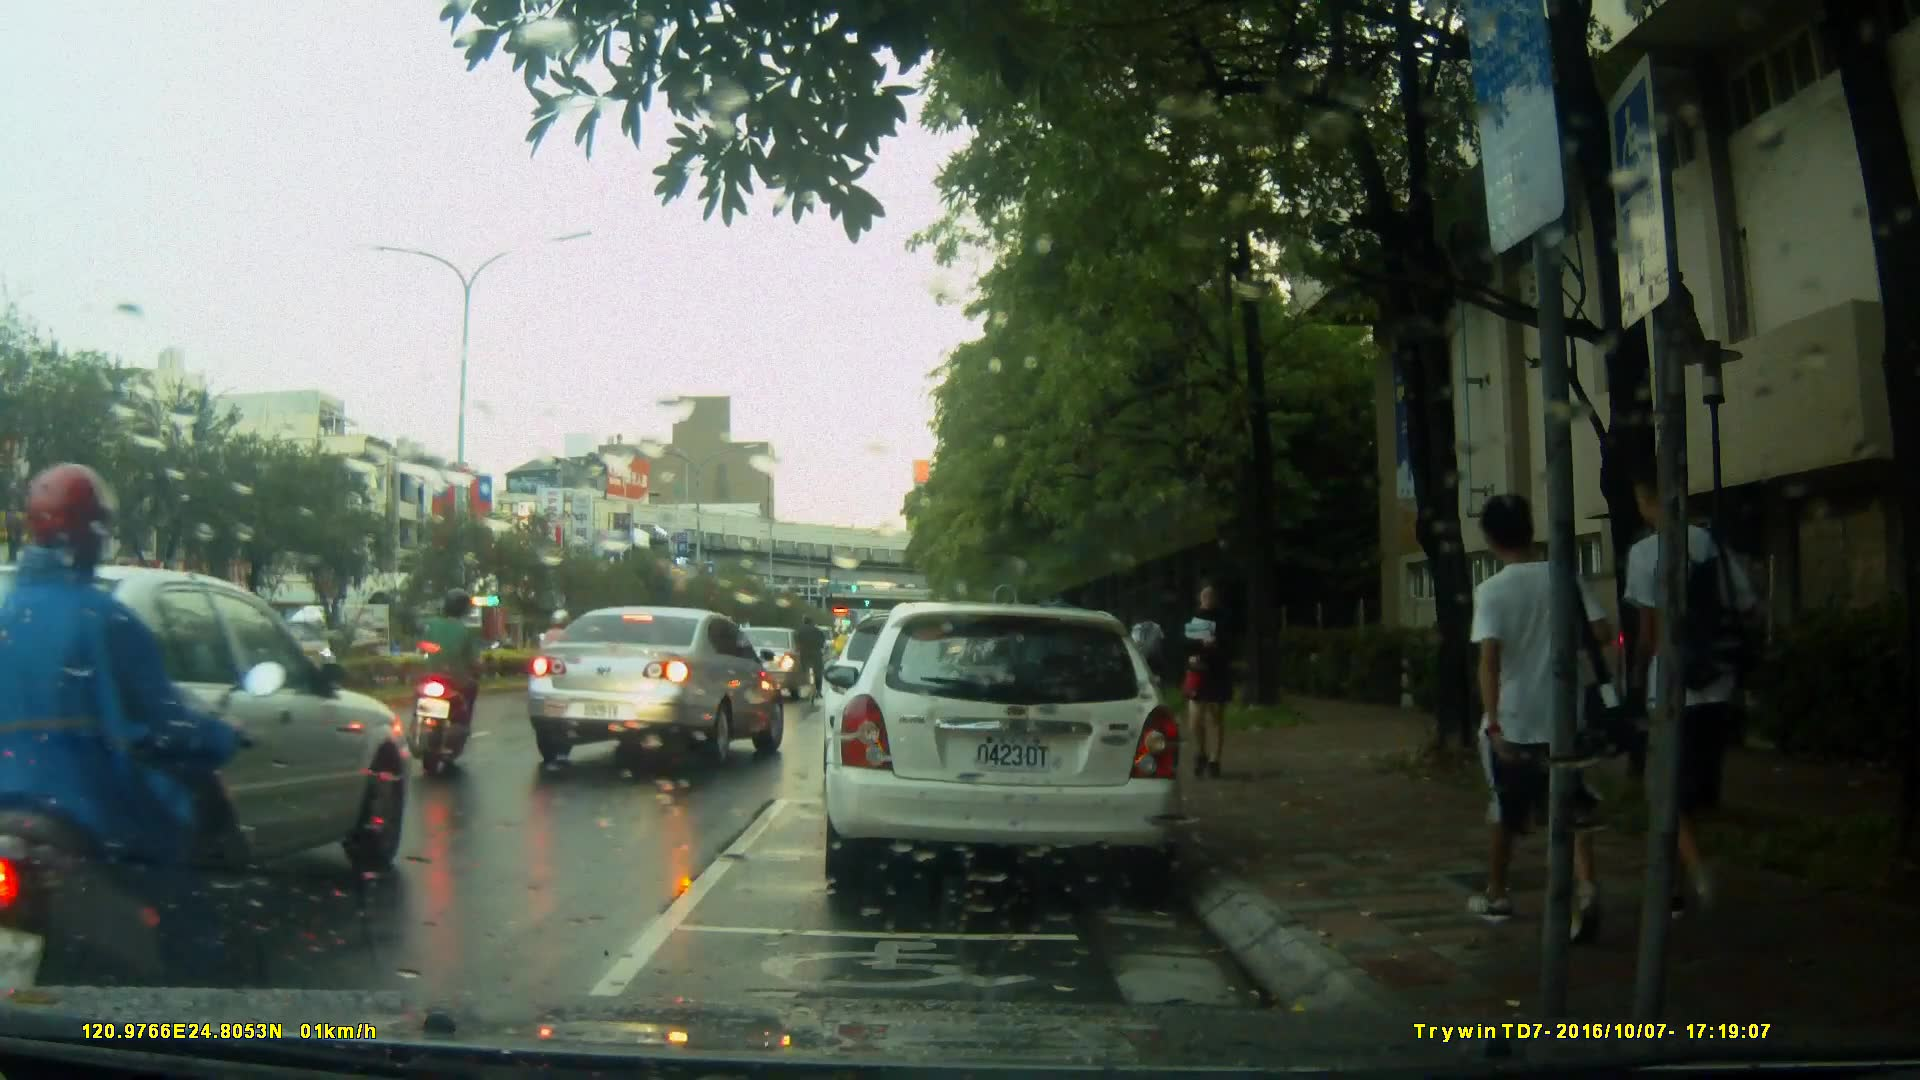pedestrian: (1453, 469, 1617, 942), (1612, 440, 1740, 935), (1175, 567, 1245, 786), (1128, 604, 1171, 732)
rider: (1, 460, 299, 1013), (415, 584, 496, 770), (533, 604, 575, 731), (789, 612, 823, 710)
vehicle: (1, 562, 419, 944), (820, 602, 1188, 898), (522, 604, 792, 772), (709, 627, 816, 702)
